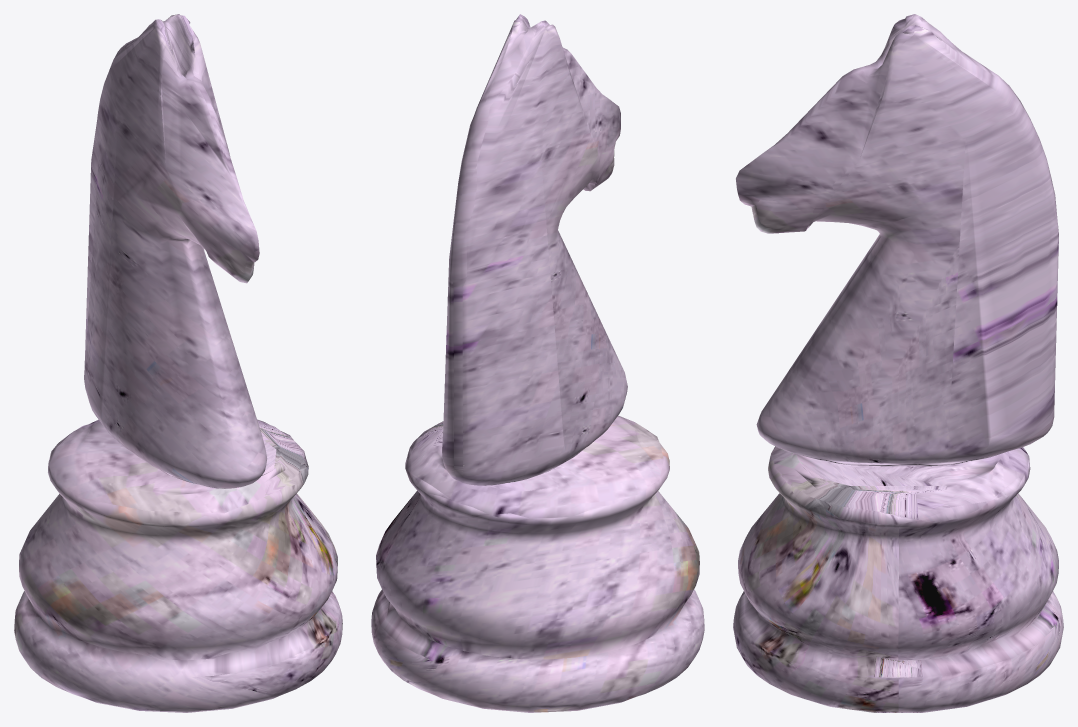
File: white_knight.glb
3 views of the same model, side by side, from view 1: azimuth 30°, elevation 25°; view 2: azimuth 150°, elevation 25°; view 3: azimuth 270°, elevation 25° (orthographic).
Parts seen in each view (by area): view 1: Circle.025; view 2: Circle.025; view 3: Circle.025.
Part boxes in pixels (bbox=[...]): Circle.025: bbox=[14, 14, 342, 712]; Circle.025: bbox=[371, 14, 704, 712]; Circle.025: bbox=[733, 14, 1063, 712].
Size of the model in its own units: 1.33 by 2.8 by 1.33.
1 material, 1 textured.
